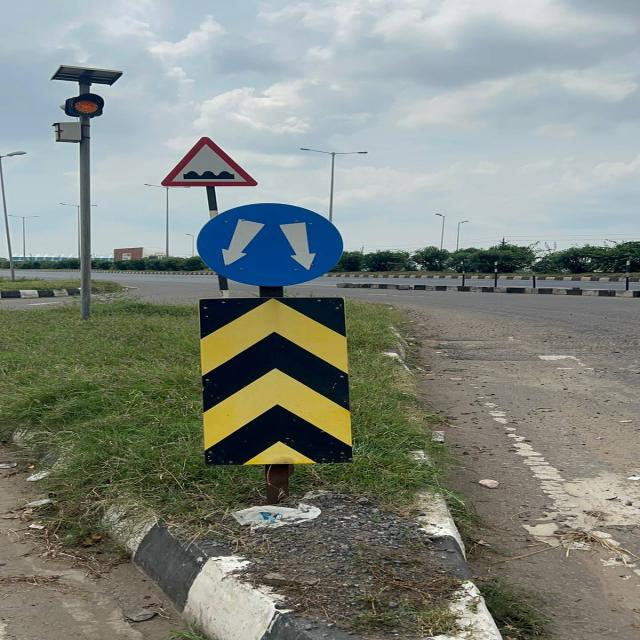Rumble_strip: (143, 131, 271, 194)
Twoway_hazardmarker: (193, 294, 370, 463)
vehicles_may_pass_either: (188, 200, 346, 286)
